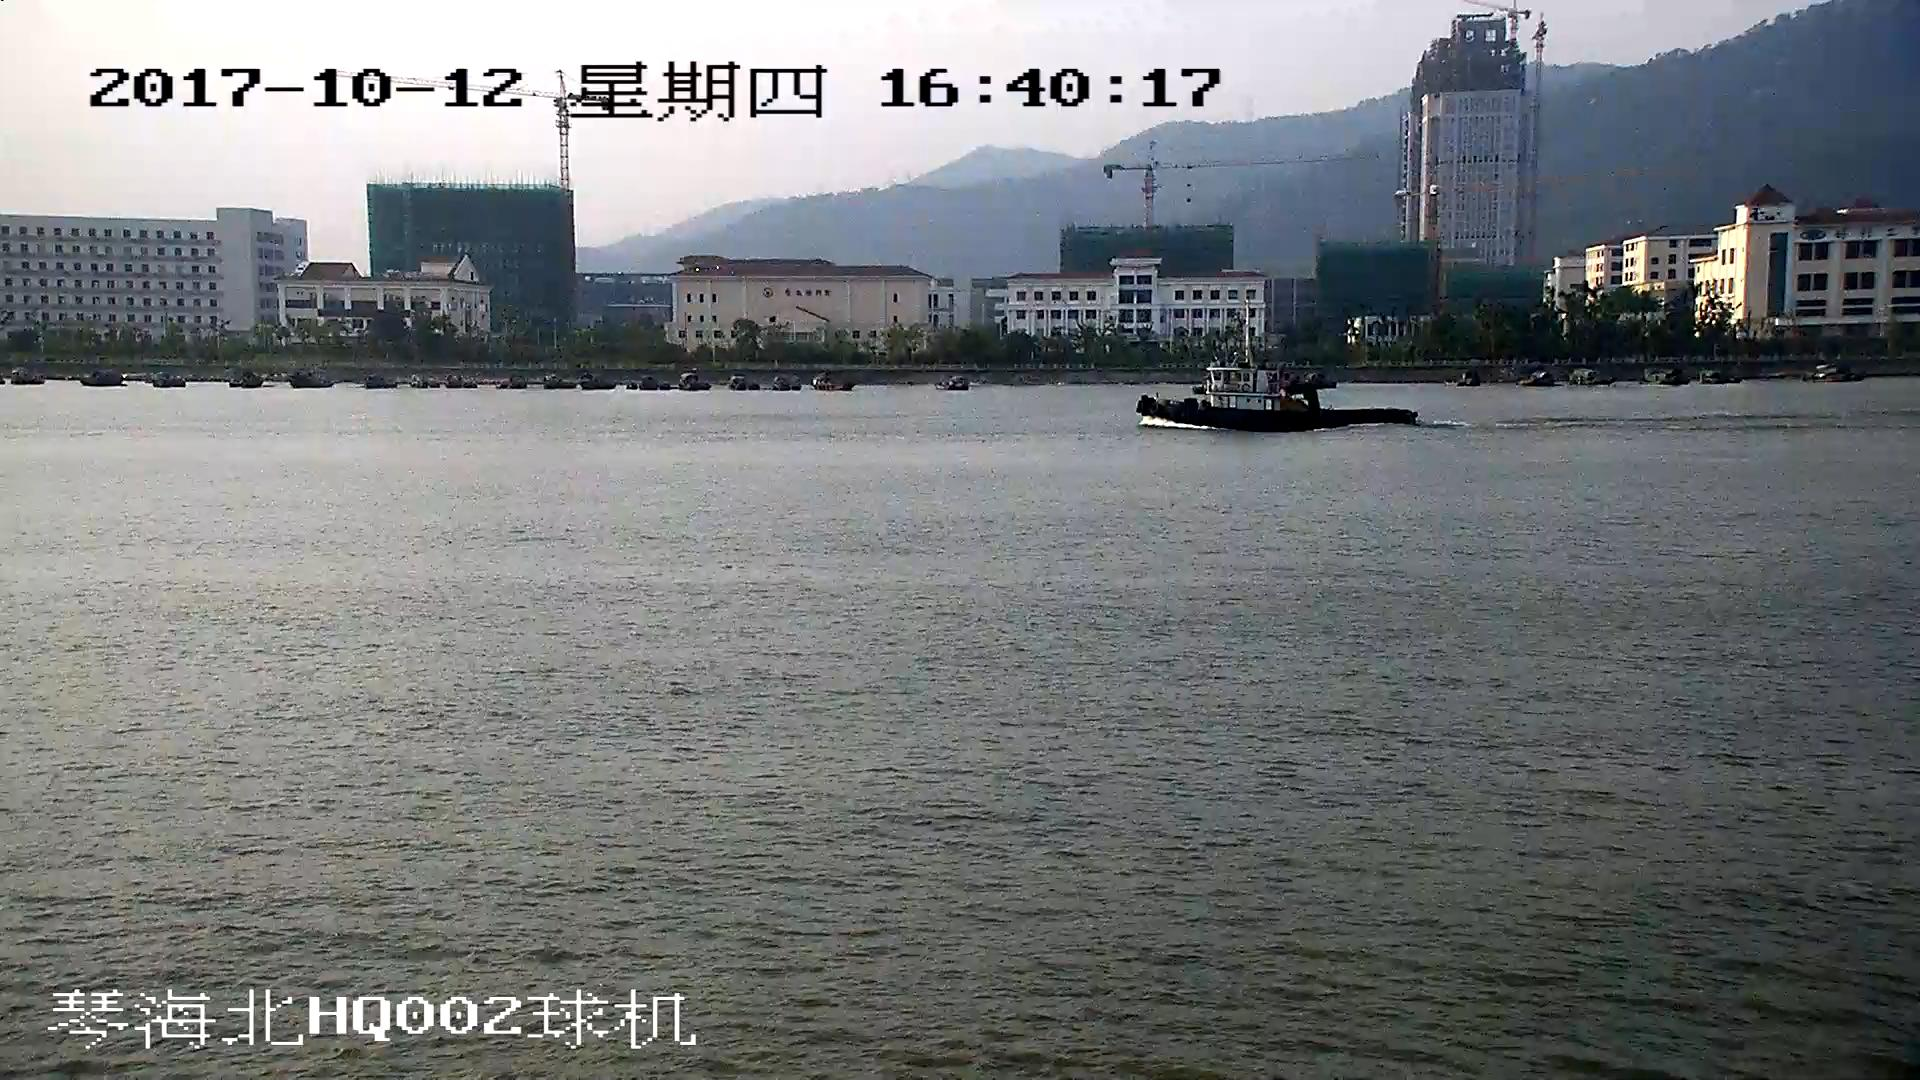passenger ship: (1135, 306, 1413, 432)
